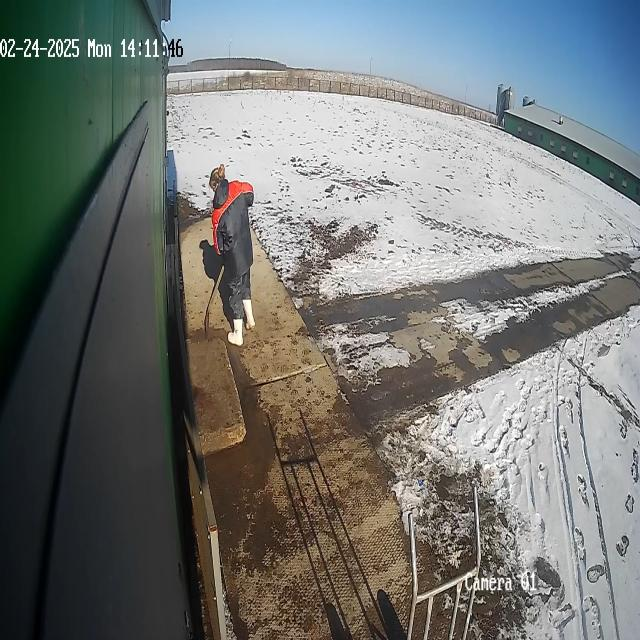Red uniform: (210, 178, 255, 329)
